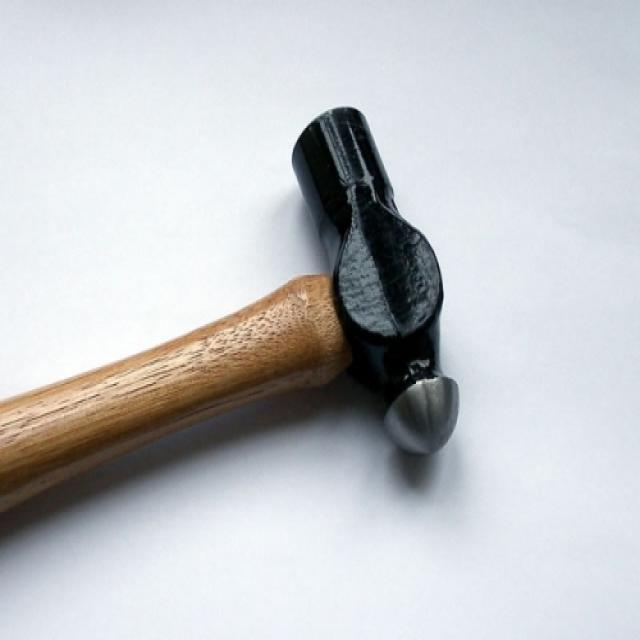hammer: (0, 83, 471, 524)
